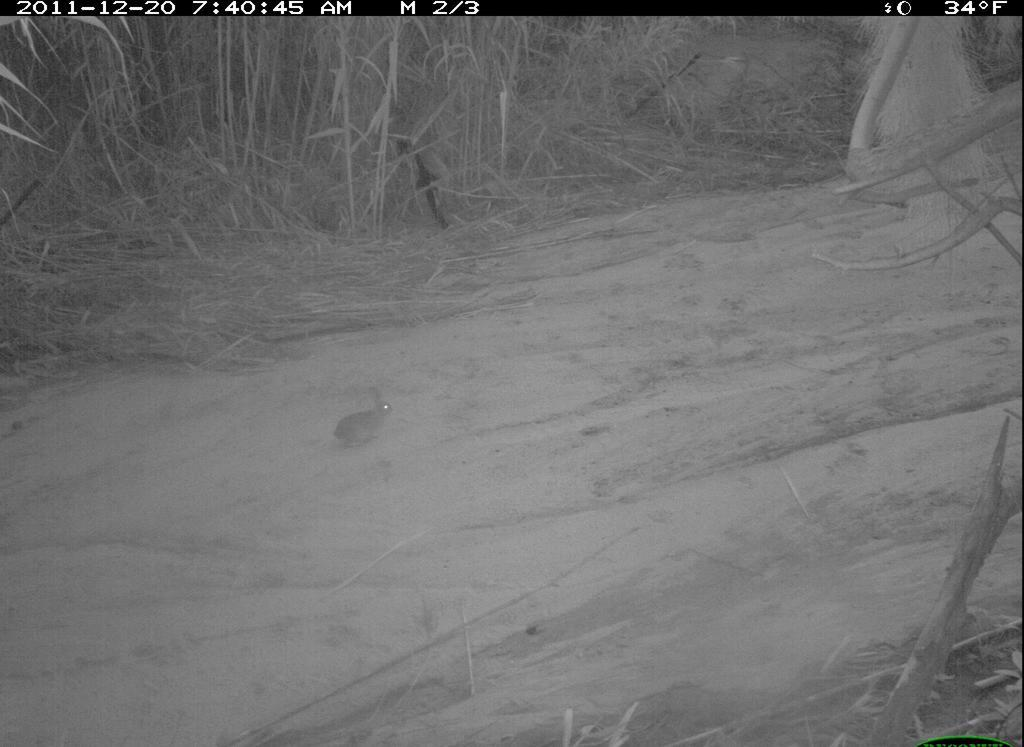rabbit: (319, 379, 405, 451)
